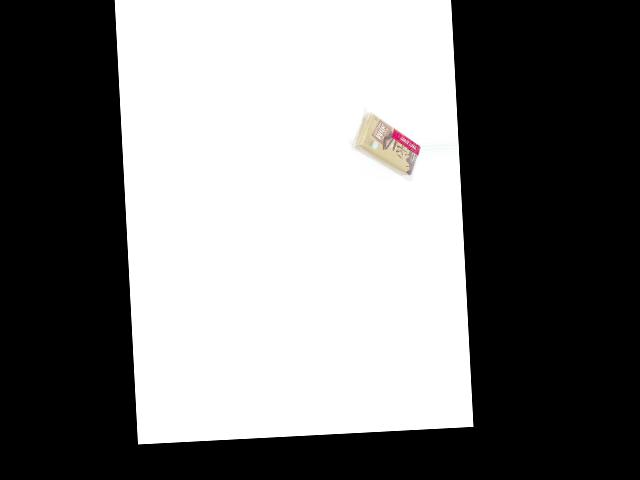chocolate: (350, 102, 420, 179)
